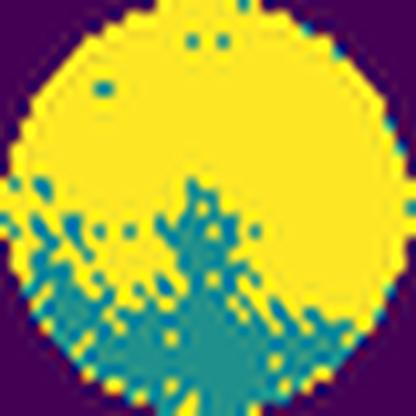Edge-Loc: (0, 0, 415, 334)
